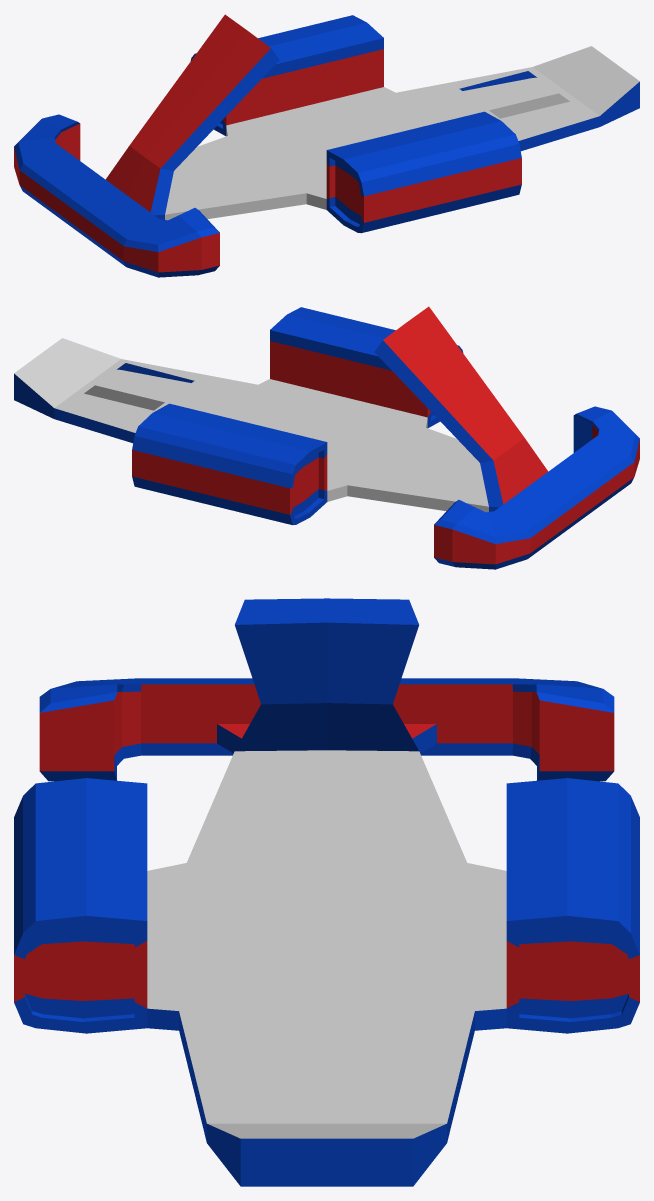
The model's file is Body.fbx.
The picture shows the model from 3 angles, top to bottom: view 1: azimuth 30°, elevation 25°; view 2: azimuth 150°, elevation 25°; view 3: azimuth 270°, elevation 25°; orthographic projection. The views are drawn at different scales.
Parts seen in each view (by area): view 1: Flag.004; view 2: Flag.004; view 3: Flag.004.
Boxes of the visible parts, <box> form: Flag.004: <box>14,14,639,277</box>; Flag.004: <box>14,306,639,569</box>; Flag.004: <box>14,598,639,1186</box>.
Bounding box in the file's own units: 300 × 82.43 × 167.
